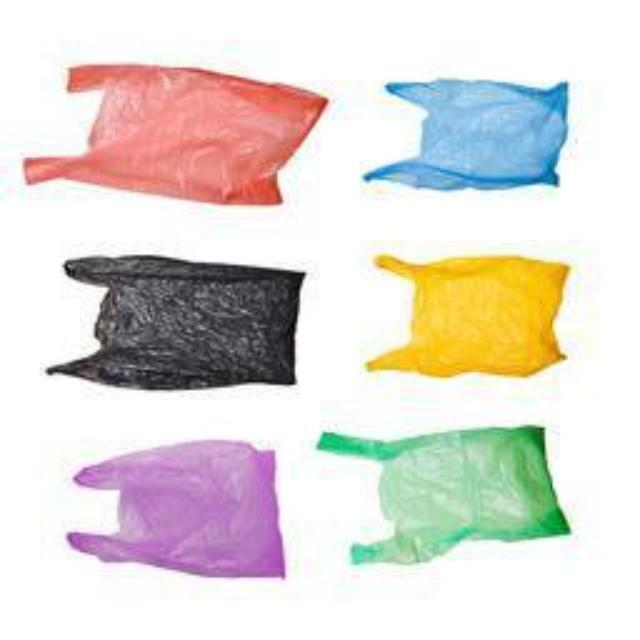Bolsa-de-nilon: (34, 68, 334, 214), (352, 416, 558, 576), (64, 268, 314, 392), (72, 440, 280, 578), (365, 77, 568, 200), (367, 255, 573, 375)
